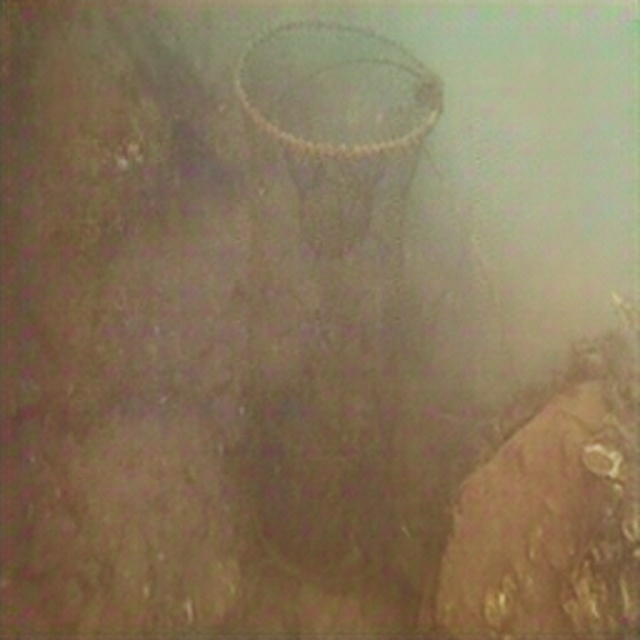mine: (233, 15, 443, 582)
